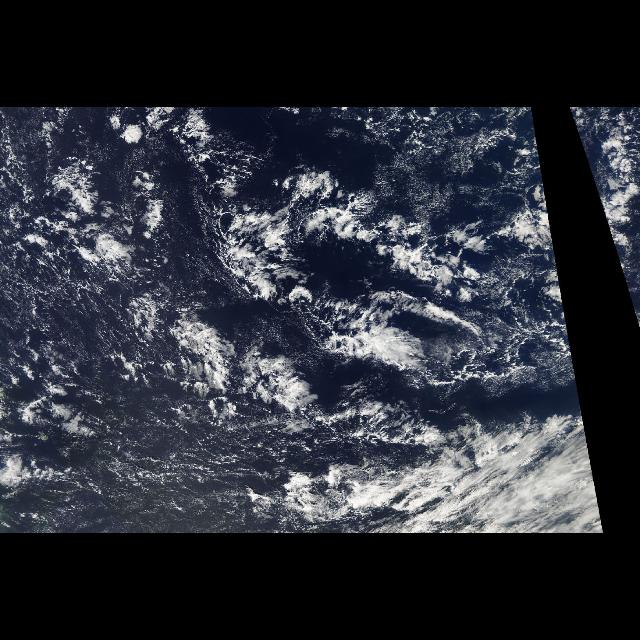Fish: (204, 171, 484, 385), (342, 411, 604, 532)
Gravel: (1, 306, 140, 462)
Sugar: (9, 378, 282, 532)
